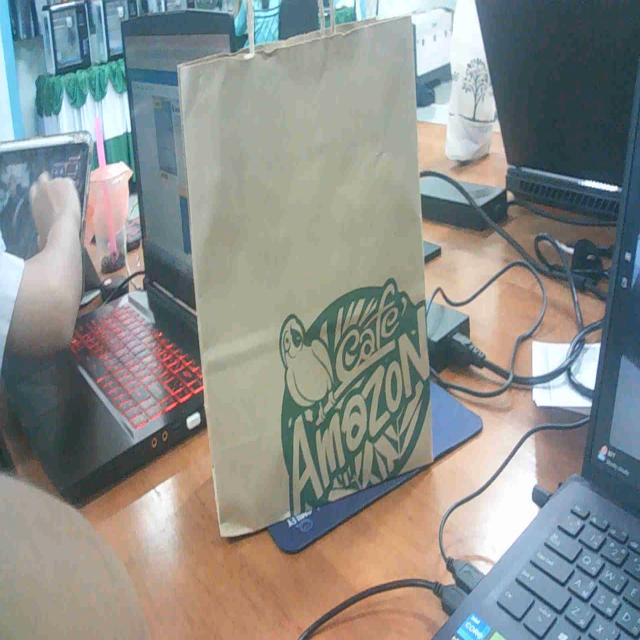bag: (170, 12, 454, 539)
